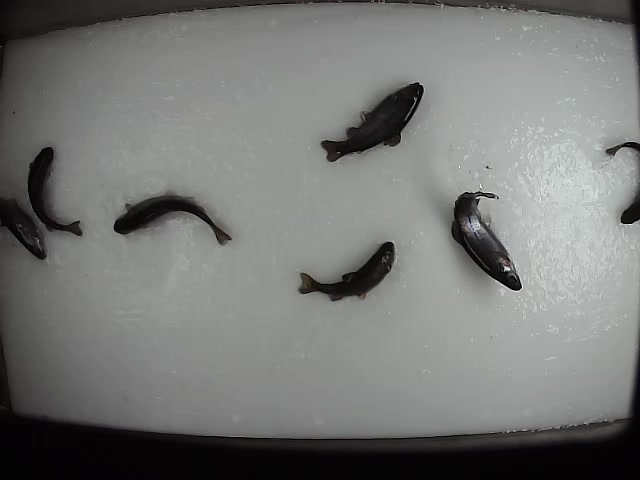fish: (320, 80, 428, 165), (108, 185, 233, 249), (450, 188, 522, 293), (294, 238, 396, 302), (25, 144, 85, 237)
